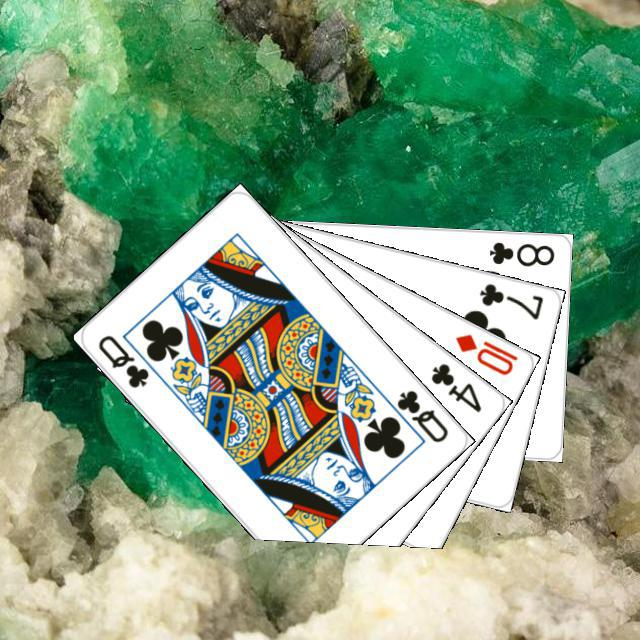10d: (450, 328, 520, 377)
4c: (425, 358, 484, 414)
7c: (474, 278, 545, 322)
8c: (484, 237, 556, 268)
Qc: (379, 384, 450, 447), (92, 330, 151, 390)
